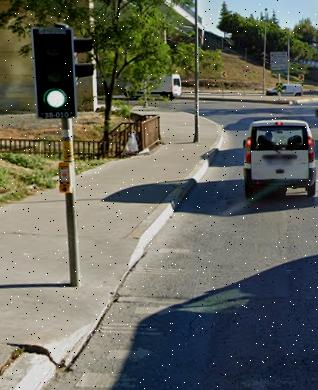greenlight: (33, 29, 74, 122)
